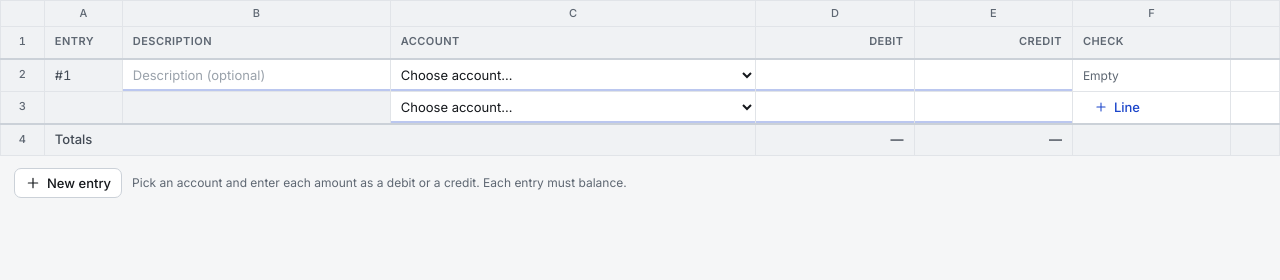
JournalEntryStep › adds and deletes entries within the limits
Later steps or results of the test are not shown.
Click the button with aria-label "Add entry".
click(68, 183)  # box [14, 168, 122, 198]
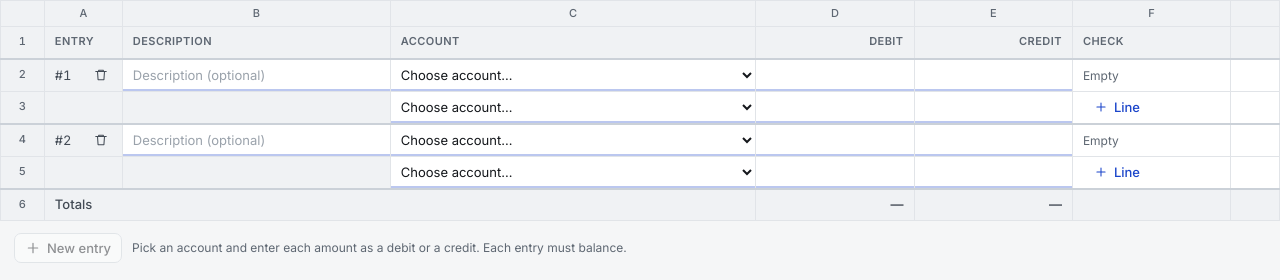
Result: the button with aria-label "Add entry" is disabled at [14, 233, 122, 263]
